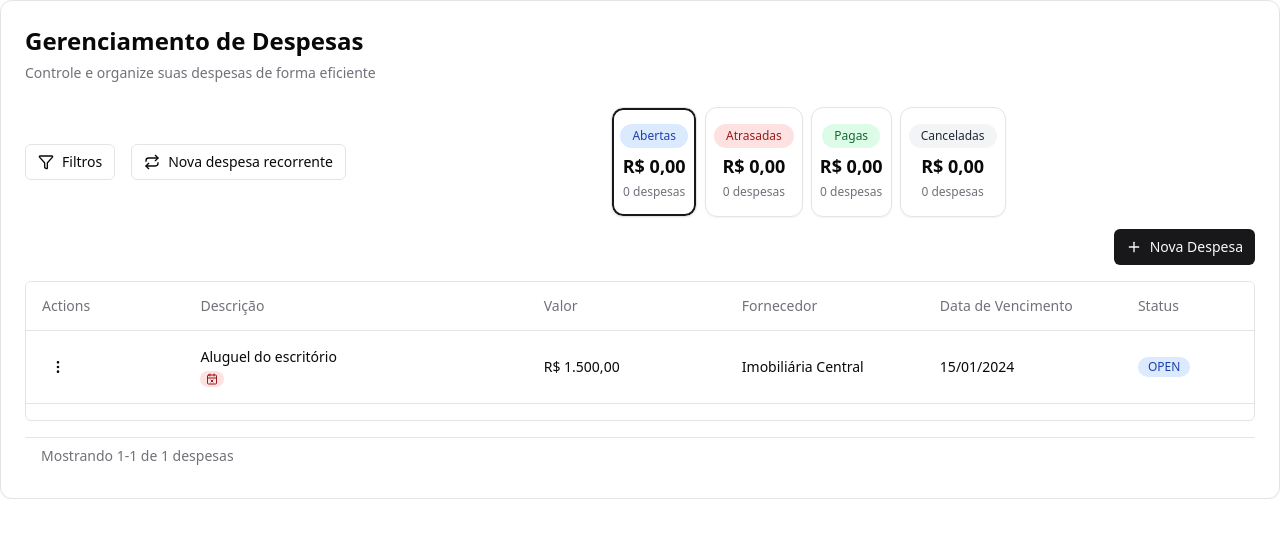
Test: Calendar sync failure → resync → revalidation flow (integration) › removes the marker from the row only AFTER the revalidation refetch
Check: the picture with test id "expense-marker-calendar" is shown, box left=200, top=370, right=224, bottom=386
Check: the row that starts with "Aluguel do escritório" is shown, box left=26, top=330, right=1254, bottom=403
Click the icon with test id "morevertical-icon" at (58, 366), box left=50, top=358, right=66, bottom=374
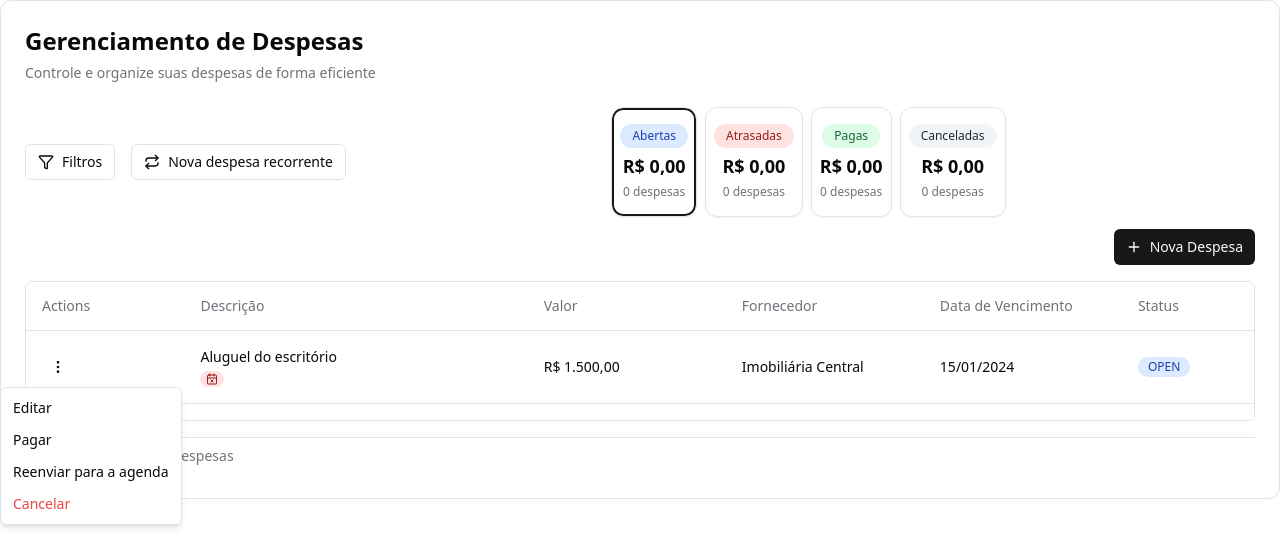
Click the menu item "Reenviar para a agenda" at (91, 472), box left=13, top=462, right=169, bottom=481
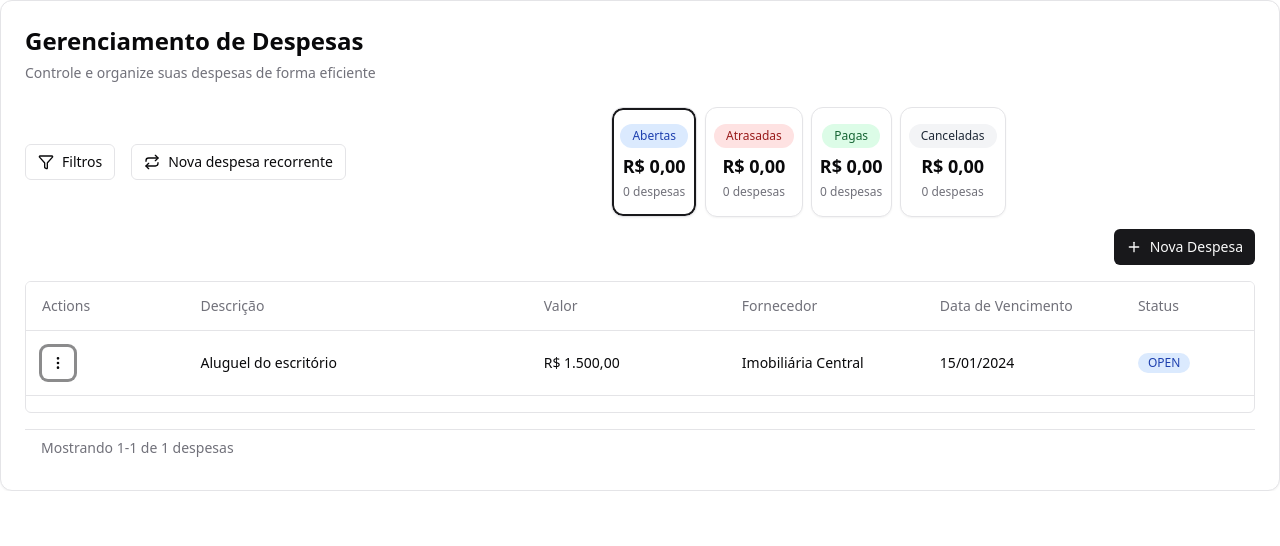
Check: the picture with test id "expense-marker-calendar" is gone
